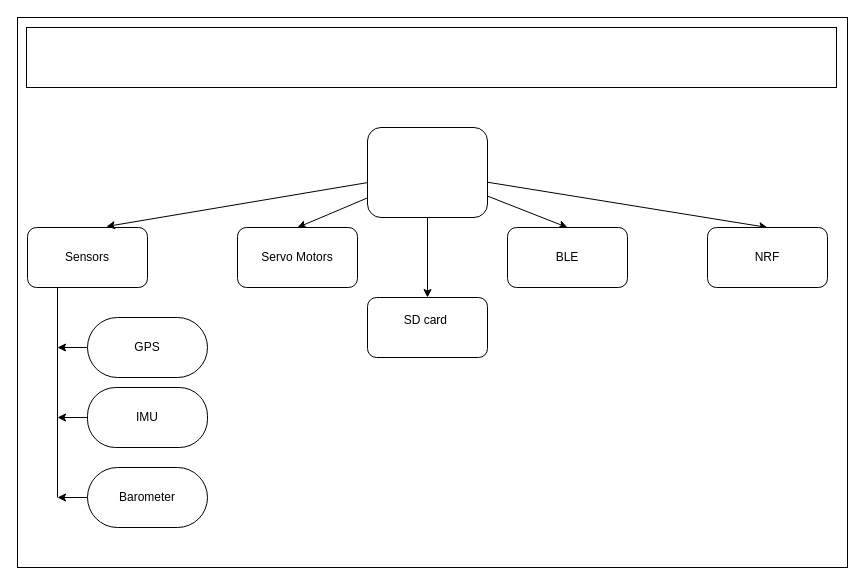
Some shapes in this 865 by 585 pixel diagram are drawn without their labels. Each missing label, with the box of its shape:
Microcontroller (STM32G071RB): (366, 126, 488, 218)
Software Architechture of Flight controller: (26, 26, 836, 88)
